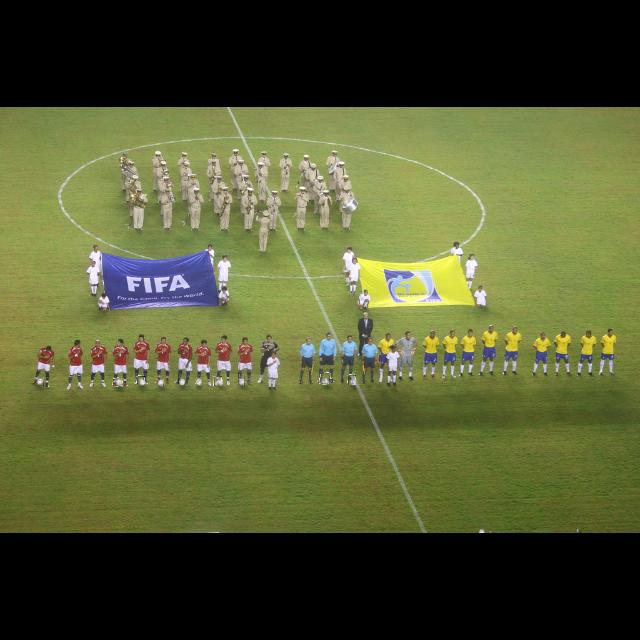Football: (320, 373, 330, 385), (34, 377, 44, 387), (113, 377, 123, 387), (193, 376, 203, 386), (214, 376, 222, 386), (348, 375, 356, 385), (239, 374, 245, 386), (137, 376, 145, 384), (156, 379, 164, 387), (178, 374, 184, 384)
